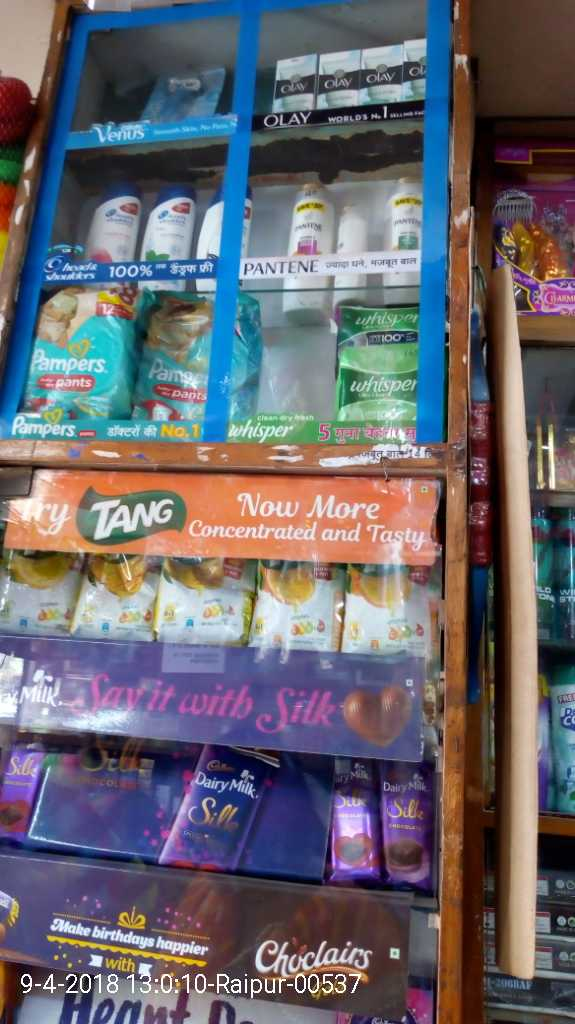venus: (140, 67, 225, 122)
